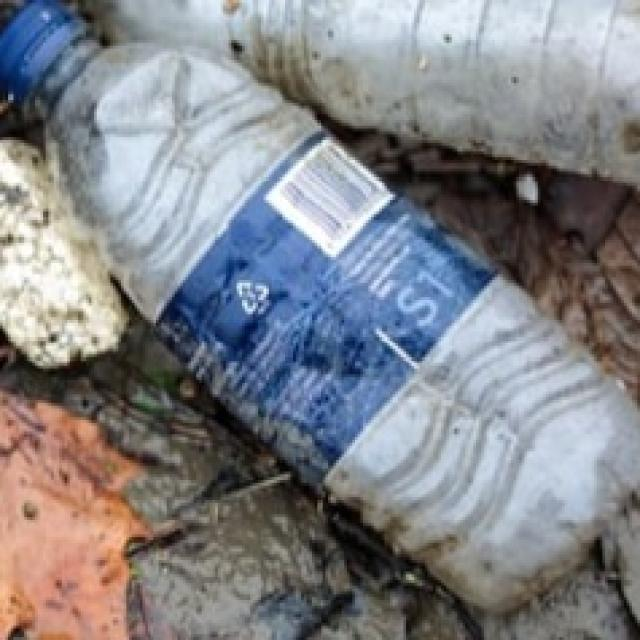plastic bottle: (28, 0, 640, 579)
